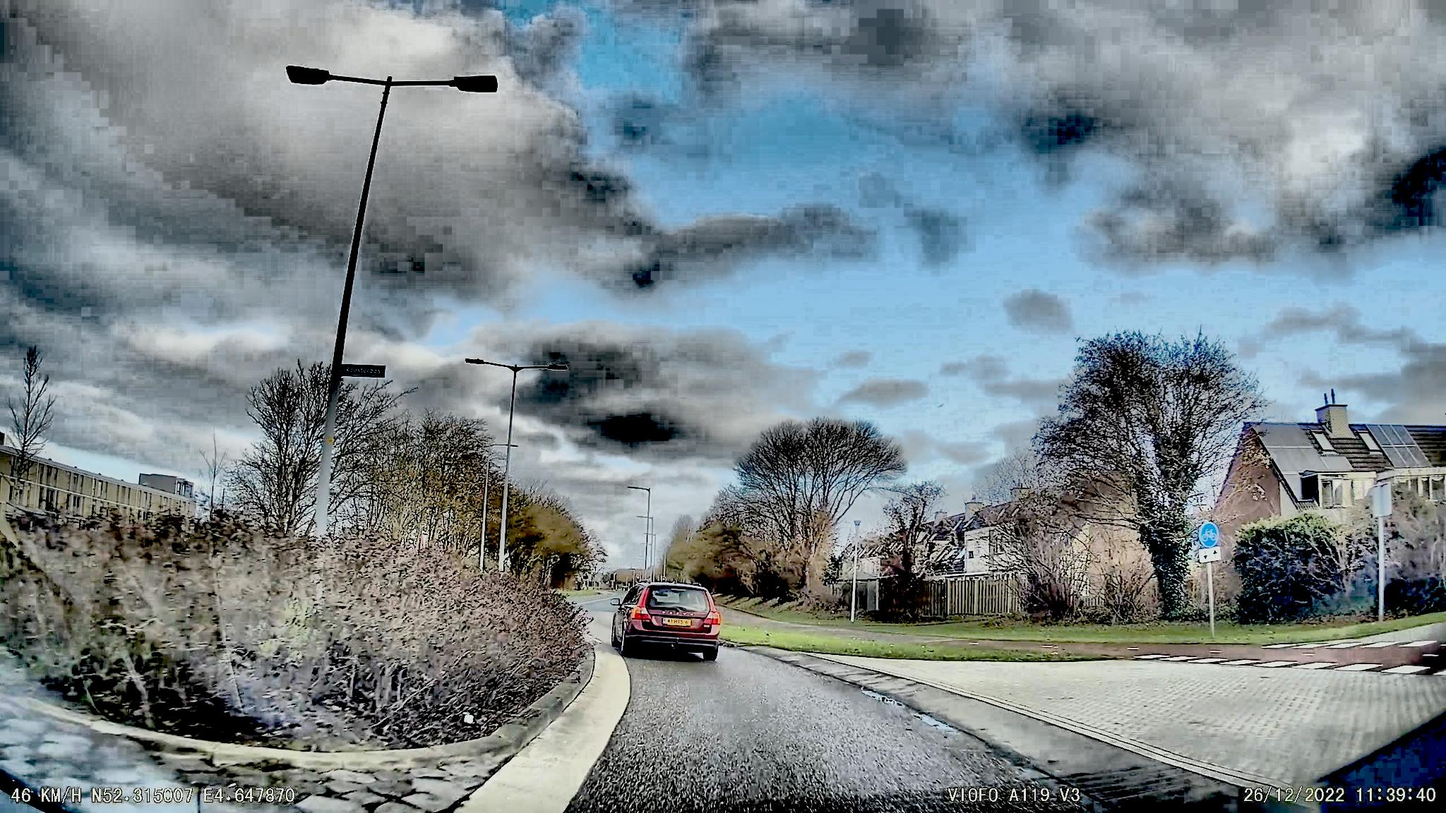Roads: (455, 648, 1446, 813)
